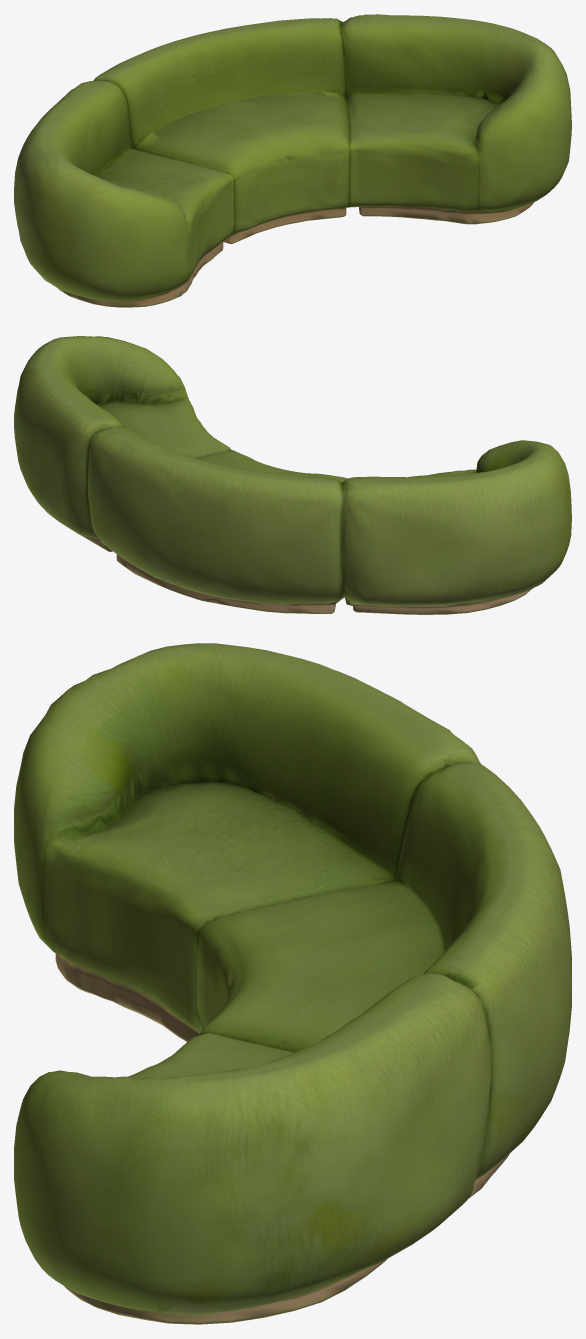
File: green_curve_sofa_0127183109_texture.glb
3 renders of one model, top to bottom at view 1: azimuth 30°, elevation 25°; view 2: azimuth 150°, elevation 25°; view 3: azimuth 270°, elevation 25°, orthographic. The views are drawn at different scales.
Visible parts, largest first — view 1: Mesh_0; view 2: Mesh_0; view 3: Mesh_0.
Boxes of the visible parts, <box> form: Mesh_0: <box>14,14,571,307</box>; Mesh_0: <box>14,336,571,614</box>; Mesh_0: <box>14,643,571,1324</box>.
Size of the model in its own units: 3.3 by 0.8128 by 1.63.
1 material, 1 textured.
